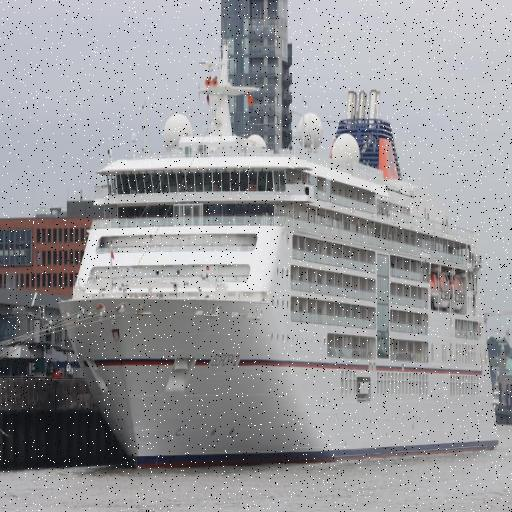cruises: (55, 40, 503, 481)
